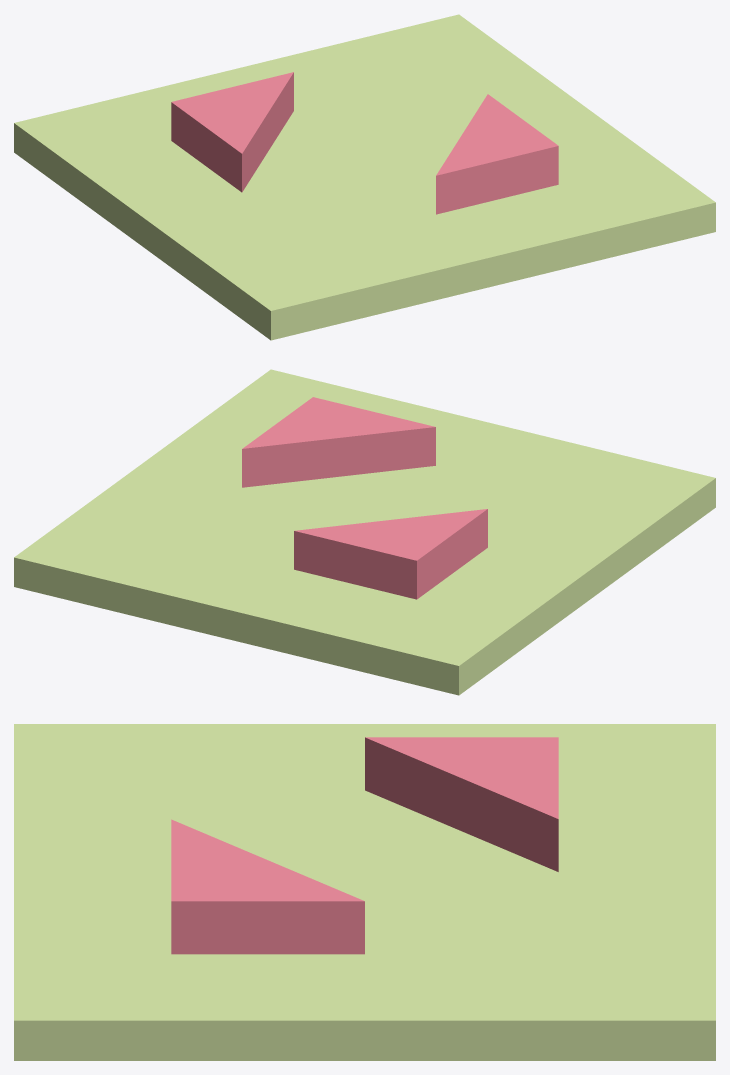
Rendered from obstacleTriangle.fbx.
3 views of the same model, one above another, from view 1: azimuth 30°, elevation 25°; view 2: azimuth 150°, elevation 25°; view 3: azimuth 270°, elevation 25° (orthographic). The views are drawn at different scales.
Parts seen in each view (by area): view 1: obstacleTriangle; view 2: obstacleTriangle; view 3: obstacleTriangle.
Boxes of the visible parts, <box> form: obstacleTriangle: <box>14,14,715,340</box>; obstacleTriangle: <box>14,369,715,695</box>; obstacleTriangle: <box>14,724,715,1060</box>.
Size of the model in its own units: 99.99 by 14.67 by 99.99.
